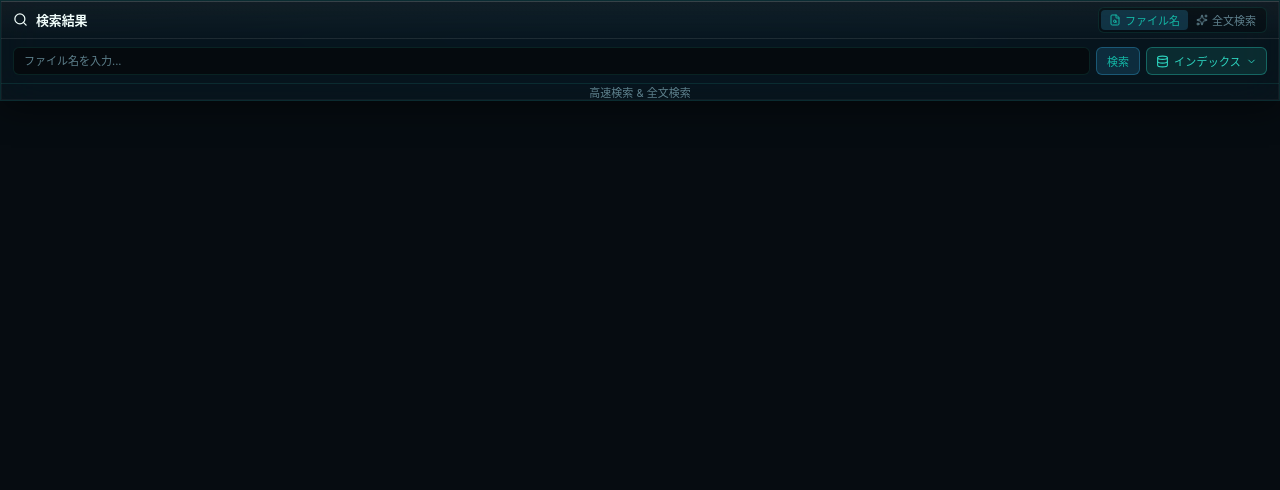
Test: SearchPanel with Explicit Indexing Dropdown › opens dropdown menu with 4 operation modes when clicking the index switch
Step 1. Click the button "インデックス" → (1206, 61), box [1146,47,1267,75]
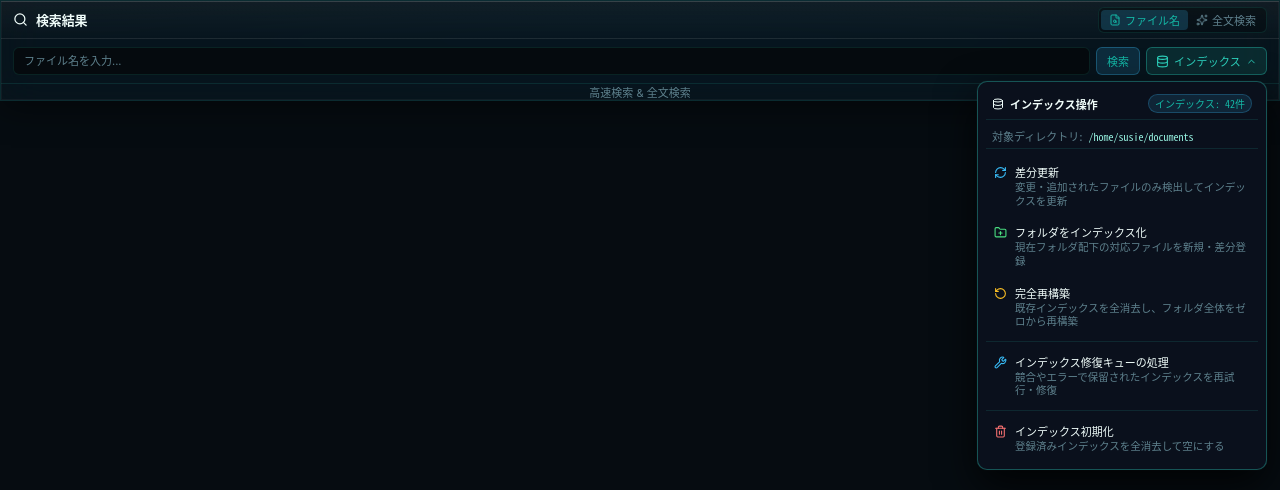
expect the text "インデックス操作" is shown: met, box [1010,96,1098,112]
expect the text "差分更新" is shown: met, box [1015,166,1059,180]
expect the text "フォルダをインデックス化" is shown: met, box [1015,226,1147,240]
